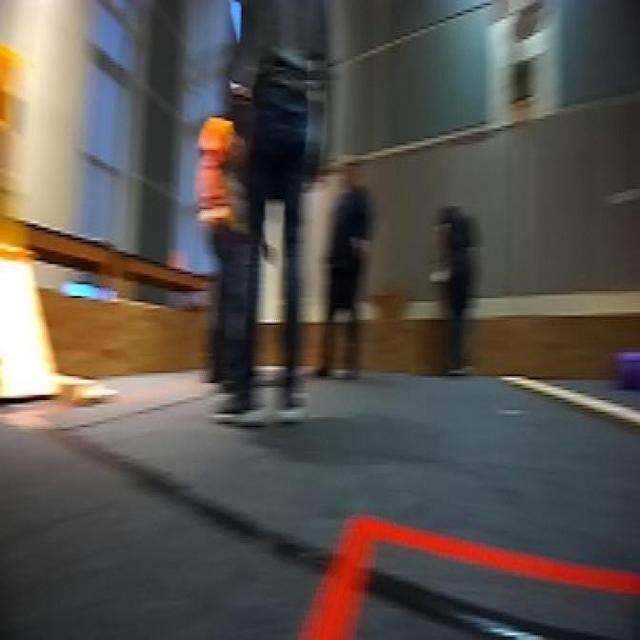frc_cone: (1, 174, 40, 266), (0, 24, 37, 105)
